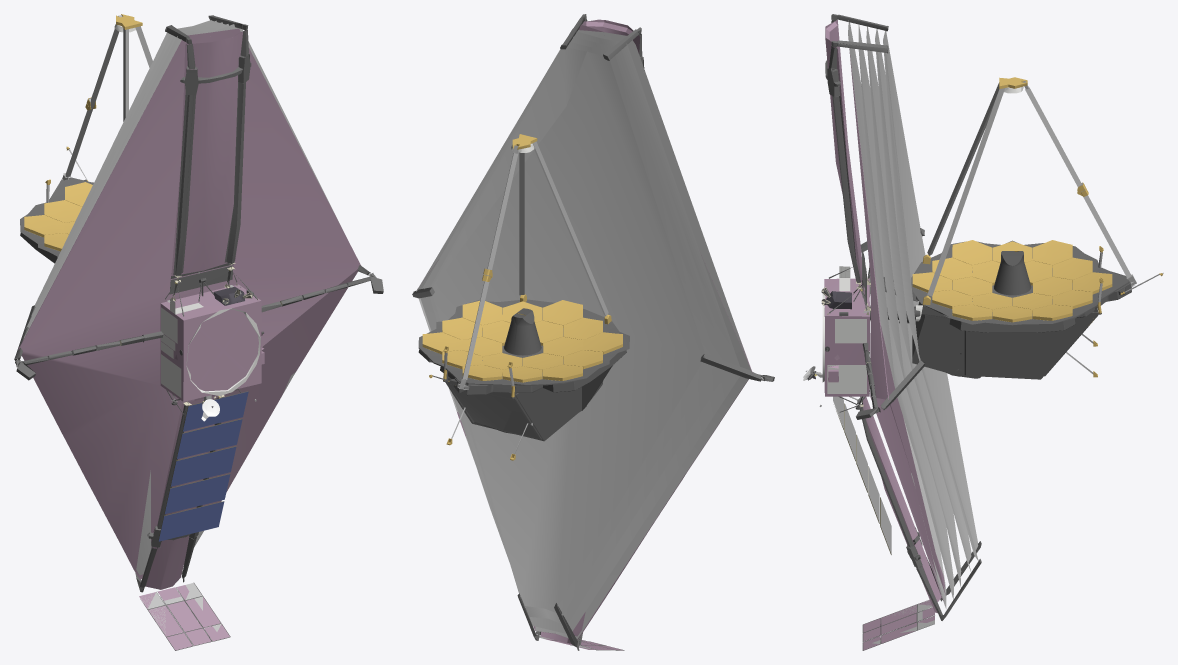
Rendered from jwst.glb.
The picture shows the model from 3 angles, left to right: view 1: azimuth 30°, elevation 25°; view 2: azimuth 150°, elevation 25°; view 3: azimuth 270°, elevation 25°; orthographic projection. The views are drawn at different scales.
Visible parts, largest first — view 1: Layer_0; view 2: Layer_0; view 3: Layer_0.
Boxes of the visible parts, bbox=[...] form: Layer_0: bbox=[14, 14, 383, 650]; Layer_0: bbox=[412, 14, 774, 650]; Layer_0: bbox=[803, 14, 1163, 650].
Bounding box in the file's own units: 12.87 × 20.99 × 11.26.
